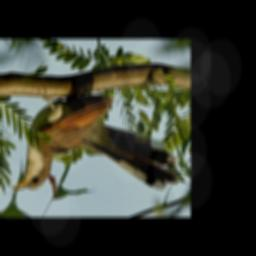Cuckoo: (11, 92, 180, 190)
